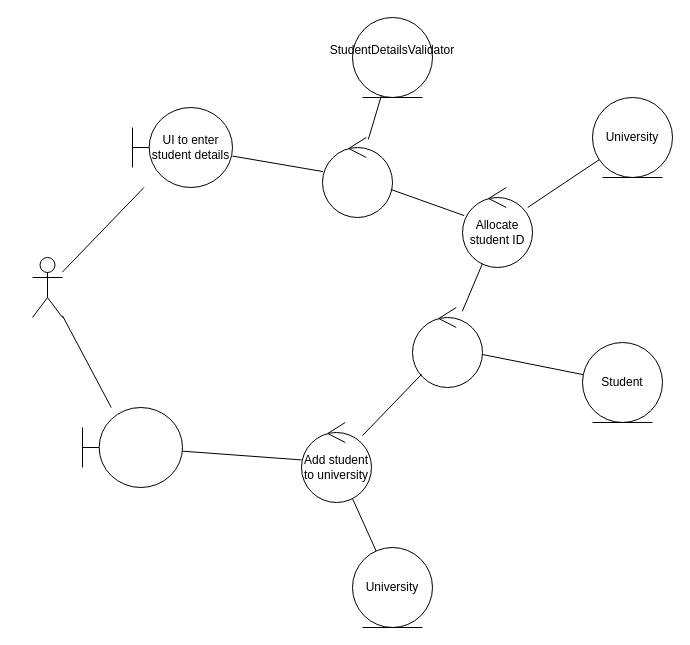
The diagram is 690 pixels wide and 645 high, and some of its shapes have lost their labels. The shapes that lost their labels are listed below. From the top down, each one's centre as x and y in pixels, then its label:
At pixel 357 177: "Cbeck validity of details".
At pixel 47 287: "Admin staff".
At pixel 447 347: "Create student object".
At pixel 132 447: "Confirmation UI".
